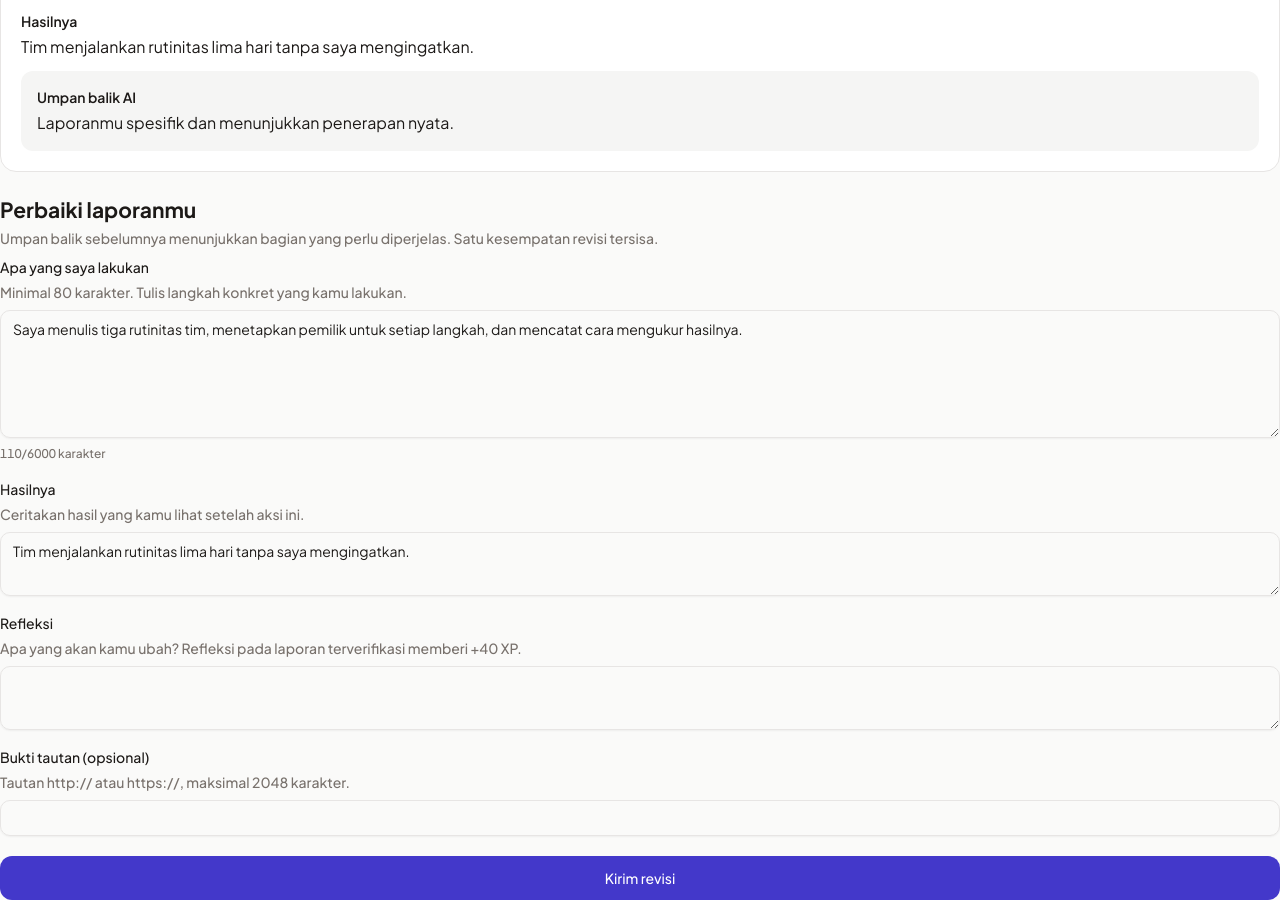
Scenario: JournalReportForm revisions › shows the exhausted state and no submit button after the second low report
(page scrolled)
Click the button "Kirim revisi".
click(640, 878)  # box [0,856,1279,899]
(page scrolled)
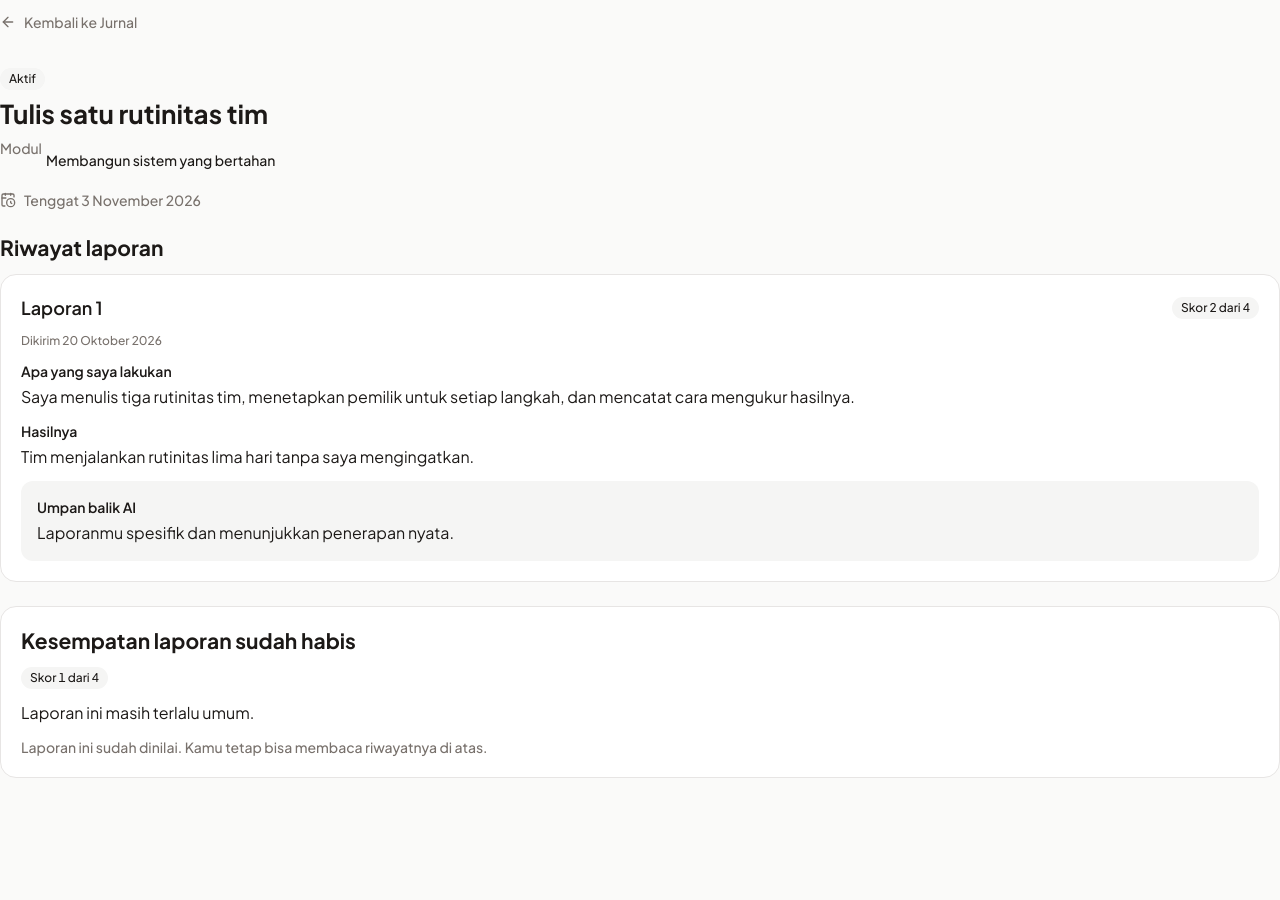
Result: the heading "Kesempatan laporan sudah habis" is shown at [21,627,356,654]
Result: the text "Laporan ini sudah dinilai. Kamu tetap bisa membaca riwayatnya di atas." is shown at [21,738,488,756]
Result: the button "Kirim revisi" is gone
